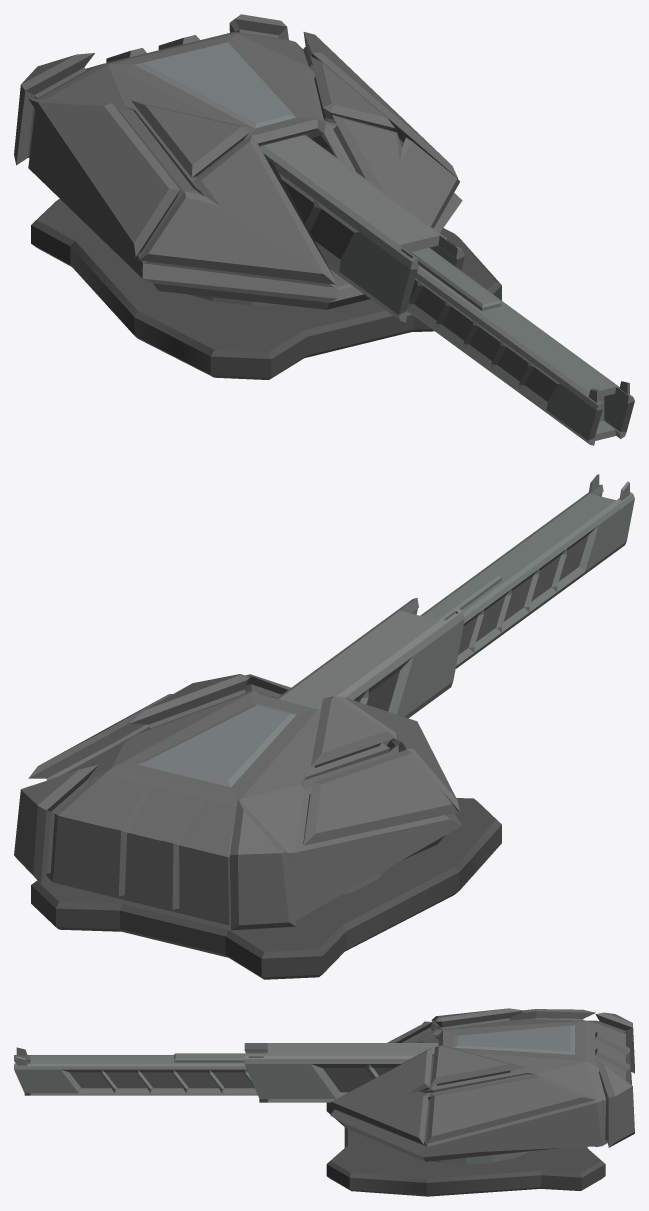
File: model_polyfleet_battleship_railgun3.fbx
3 views of the same model, one above another, from view 1: azimuth 30°, elevation 25°; view 2: azimuth 150°, elevation 25°; view 3: azimuth 270°, elevation 25° (orthographic). The views are drawn at different scales.
Visible parts, largest first — view 1: weapon_rotate, model_polyfleet_battleship_railgun3, weapon_barrels_front, weapon_barrels_back; view 2: weapon_rotate, model_polyfleet_battleship_railgun3, weapon_barrels_front, weapon_barrels_back; view 3: weapon_rotate, model_polyfleet_battleship_railgun3, weapon_barrels_front, weapon_barrels_back.
Boxes of the visible parts, bbox=[...] form: weapon_rotate: bbox=[14, 14, 462, 309]; model_polyfleet_battleship_railgun3: bbox=[31, 199, 501, 379]; weapon_barrels_front: bbox=[406, 247, 634, 445]; weapon_barrels_back: bbox=[259, 135, 464, 322]; weapon_rotate: bbox=[14, 674, 462, 930]; model_polyfleet_battleship_railgun3: bbox=[31, 798, 501, 979]; weapon_barrels_front: bbox=[420, 474, 634, 668]; weapon_barrels_back: bbox=[276, 597, 464, 718]; weapon_rotate: bbox=[327, 1008, 634, 1164]; model_polyfleet_battleship_railgun3: bbox=[326, 1102, 605, 1196]; weapon_barrels_front: bbox=[14, 1047, 267, 1095]; weapon_barrels_back: bbox=[244, 1043, 438, 1102].
Bounding box in the file's own units: 254 × 133 × 650.
